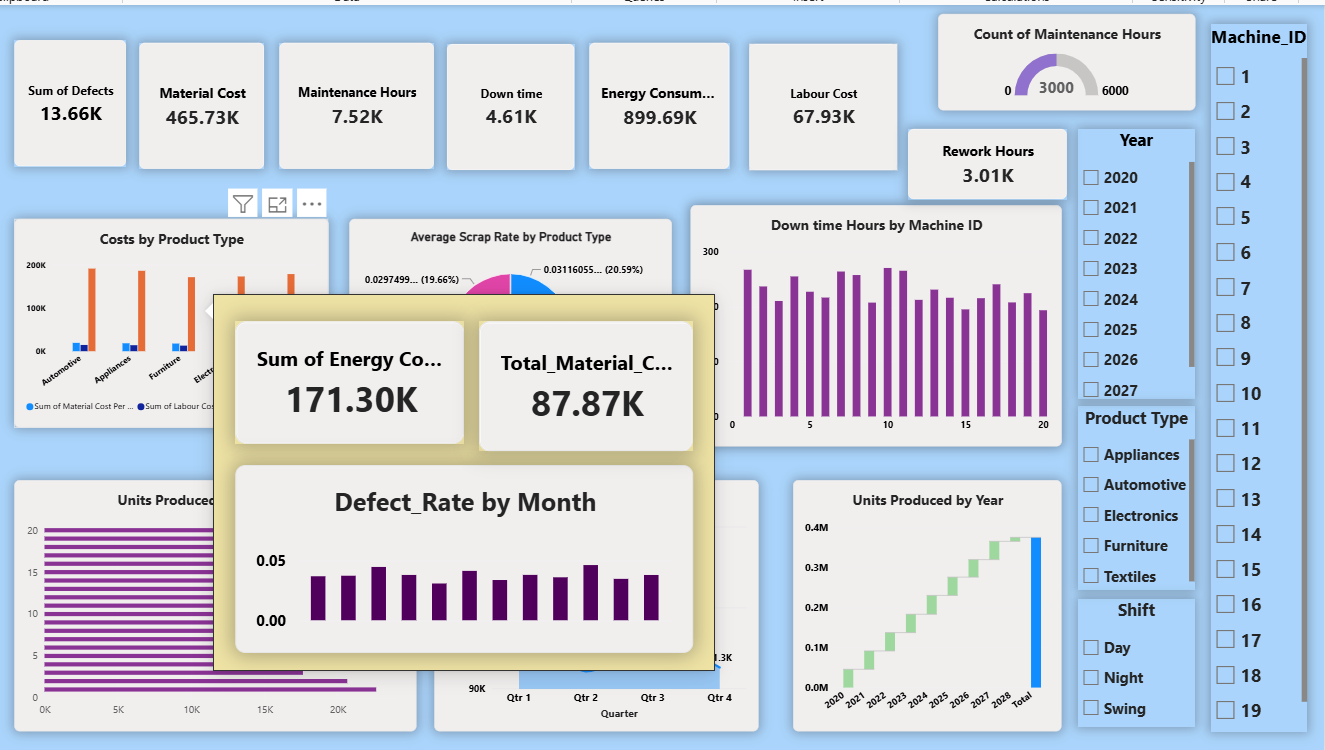

Layout of this report page (visuals, bound fields, positions):
{"tool":"powerbi","page":{"name":"Page 1","canvas":[1920,1080],"ordinal":0},"visuals":[{"type":"clusteredColumnChart","title":"Costs by Product Type","fields":{"Category":["Manufacturing Dataset.Product Type"],"Y":["Sum(Manufacturing Dataset.Material Cost Per Unit)","Sum(Manufacturing Dataset.Labour Cost Per Hour)","Sum(Manufacturing Dataset.Energy Consumption kWh)"]},"box":[22.6,308.7,454.9,302.6],"z":0},{"type":"columnChart","title":"Down time Hours by Machine ID","fields":{"Category":["Manufacturing Dataset.Machine ID"],"Y":["Sum(Manufacturing Dataset.Down time Hours)"]},"box":[1002.4,290.2,537.2,349.9],"z":1000},{"type":"lineChart","fields":{"Category":["Manufacturing Dataset.Date.Variation.Date Hierarchy.Quarter"],"Y":["Manufacturing Dataset.Total_Production"]},"box":[631.9,687.5,469.3,364.3],"z":2000},{"type":"slicer","title":"Shift","fields":{"Values":["Manufacturing Dataset.Shift"]},"box":[1564.3,860.4,168.8,185.2],"z":3000},{"type":"slicer","title":"Product Type","fields":{"Values":["Manufacturing Dataset.Product Type"]},"box":[1564.3,580.4,168.8,265.5],"z":4000},{"type":"cardVisual","fields":{"Data":["Sum(Manufacturing Dataset.Defects)"]},"box":[22.6,51.5,162.6,183.2],"z":5000},{"type":"cardVisual","fields":{"Data":["Sum(Manufacturing Dataset.Down time Hours)"]},"box":[650.4,55.6,185.2,183.2],"z":6000},{"type":"cardVisual","fields":{"Data":["Sum(Manufacturing Dataset.Maintenance Hours)"]},"box":[407.5,53.5,224.4,183.2],"z":7000},{"type":"cardVisual","fields":{"Data":["Sum(Manufacturing Dataset.Labour Cost Per Hour)"]},"box":[1086.8,55.6,214.1,183.2],"z":8000},{"type":"slicer","title":"Machine_ID","fields":{"Values":["Manufacturing Dataset.Machine ID"]},"box":[1755.8,26.8,140,1025],"z":9000},{"type":"clusteredBarChart","title":"Units Produced by Machine ID","fields":{"Category":["Manufacturing Dataset.Machine ID"],"Y":["Sum(Manufacturing Dataset.Units Produced)"]},"box":[22.6,687.5,582.5,364.3],"z":10000},{"type":"waterfallChart","title":"Units Produced by Year","fields":{"Category":["Manufacturing Dataset.Date.Variation.Date Hierarchy.Year"],"Y":["Sum(Manufacturing Dataset.Units Produced)"]},"box":[1150.6,687.5,389,364.3],"z":11000},{"type":"slicer","title":"Year","fields":{"Values":["Manufacturing Dataset.Date.Variation.Date Hierarchy.Year"]},"box":[1564.3,179.1,168.8,391.1],"z":12000},{"type":"cardVisual","fields":{"Data":["Sum(Manufacturing Dataset.Energy Consumption kWh)"]},"box":[856.3,53.5,203.8,183.2],"z":13000},{"type":"donutChart","title":"Average Scrap Rate by Product Type","fields":{"Category":["Manufacturing Dataset.Product Type"],"Y":["Avg(Manufacturing Dataset.Scrap Rate)"]},"box":[508.4,308.7,467.2,302.6],"z":14000},{"type":"gauge","fields":{"Y":["CountNonNull(Manufacturing Dataset.Maintenance Hours)"]},"box":[1360.6,12.3,372.6,140],"z":15000},{"type":"cardVisual","fields":{"Data":["Manufacturing Dataset.Total_Material_Cost"]},"box":[203.8,53.5,181.1,183.2],"z":16000},{"type":"cardVisual","fields":{"Data":["Sum(Manufacturing Dataset.Rework Hours)"]},"box":[1317.3,179.1,230.5,102.9],"z":17000}]}

Visuals, with their boxes on the page's 1920x1080 design canvas (x1, y1, x2, y2). These are canvas units, not pixel positions in the 1325x750 screenshot, which may show the page scaled, cropped or inside an application window:
"Costs by Product Type" clusteredColumnChart: x1=23, y1=309, x2=478, y2=611
"Down time Hours by Machine ID" columnChart: x1=1002, y1=290, x2=1540, y2=640
lineChart - Manufacturing Dataset.Date.Variation.Date Hierarchy.Quarter x Manufacturing Dataset.Total_Production: x1=632, y1=688, x2=1101, y2=1052
"Shift" slicer: x1=1564, y1=860, x2=1733, y2=1046
"Product Type" slicer: x1=1564, y1=580, x2=1733, y2=846
cardVisual - Sum(Manufacturing Dataset.Defects): x1=23, y1=52, x2=185, y2=235
cardVisual - Sum(Manufacturing Dataset.Down time Hours): x1=650, y1=56, x2=836, y2=239
cardVisual - Sum(Manufacturing Dataset.Maintenance Hours): x1=408, y1=54, x2=632, y2=237
cardVisual - Sum(Manufacturing Dataset.Labour Cost Per Hour): x1=1087, y1=56, x2=1301, y2=239
"Machine_ID" slicer: x1=1756, y1=27, x2=1896, y2=1052
"Units Produced by Machine ID" clusteredBarChart: x1=23, y1=688, x2=605, y2=1052
"Units Produced by Year" waterfallChart: x1=1151, y1=688, x2=1540, y2=1052
"Year" slicer: x1=1564, y1=179, x2=1733, y2=570
cardVisual - Sum(Manufacturing Dataset.Energy Consumption kWh): x1=856, y1=54, x2=1060, y2=237
"Average Scrap Rate by Product Type" donutChart: x1=508, y1=309, x2=976, y2=611
gauge - CountNonNull(Manufacturing Dataset.Maintenance Hours): x1=1361, y1=12, x2=1733, y2=152
cardVisual - Manufacturing Dataset.Total_Material_Cost: x1=204, y1=54, x2=385, y2=237
cardVisual - Sum(Manufacturing Dataset.Rework Hours): x1=1317, y1=179, x2=1548, y2=282
